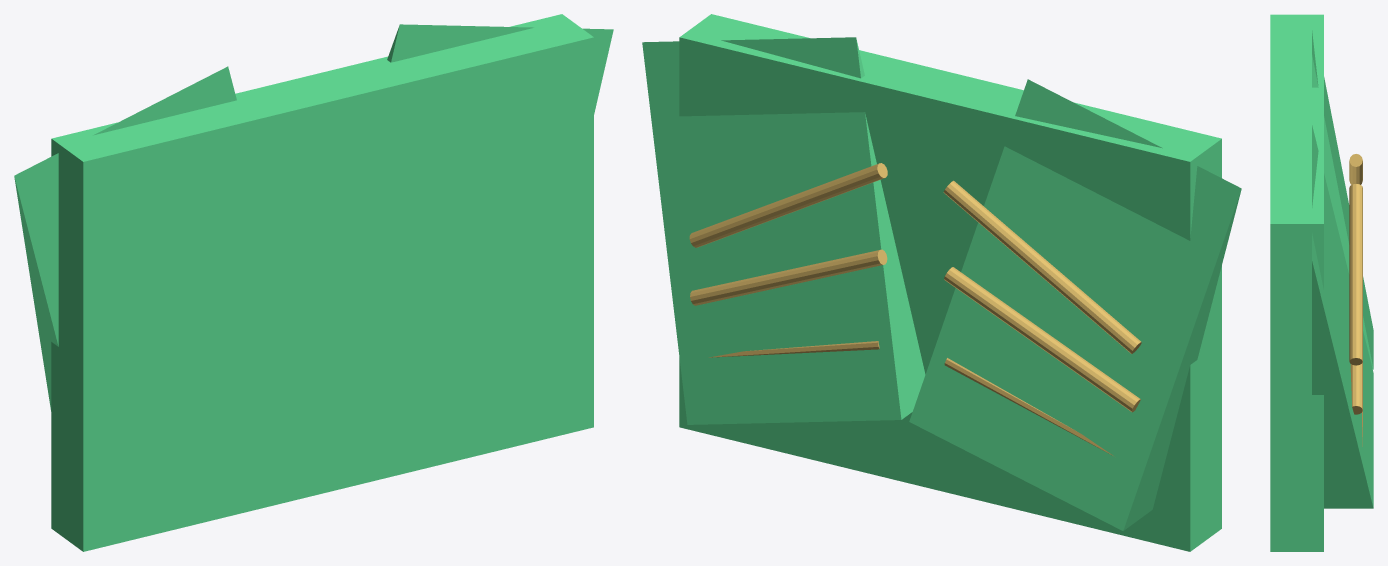
File: WindArmorUpperTorso.obj
The picture shows the model from 3 angles, left to right: view 1: azimuth 30°, elevation 25°; view 2: azimuth 150°, elevation 25°; view 3: azimuth 270°, elevation 25°; orthographic projection. The views are drawn at different scales.
Parts seen in each view (by area): view 1: WindArmorUpperTorso; view 2: WindArmorUpperTorso; view 3: WindArmorUpperTorso.
Part boxes in pixels (x1,y1,x2,y2): WindArmorUpperTorso: (14, 14, 613, 551); WindArmorUpperTorso: (642, 14, 1241, 551); WindArmorUpperTorso: (1270, 14, 1373, 551).
Bounding box in the file's own units: 2.17 × 1.48 × 0.385.
